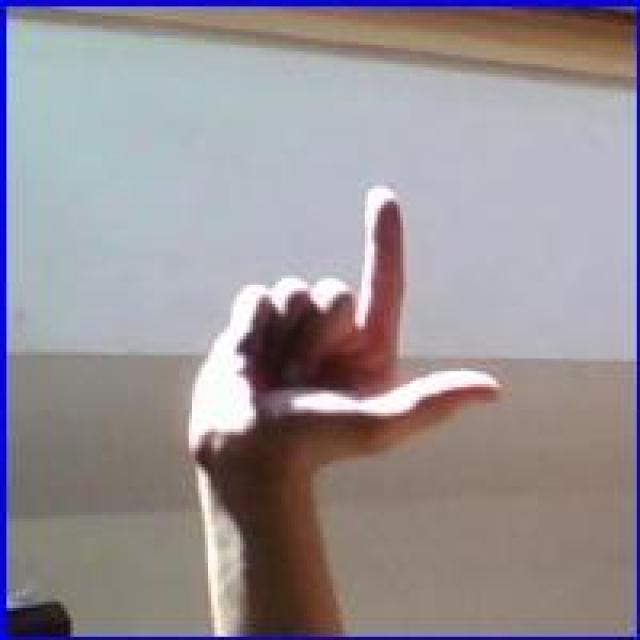L: (184, 181, 514, 507)
